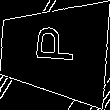P_W: (30, 31, 78, 71)
